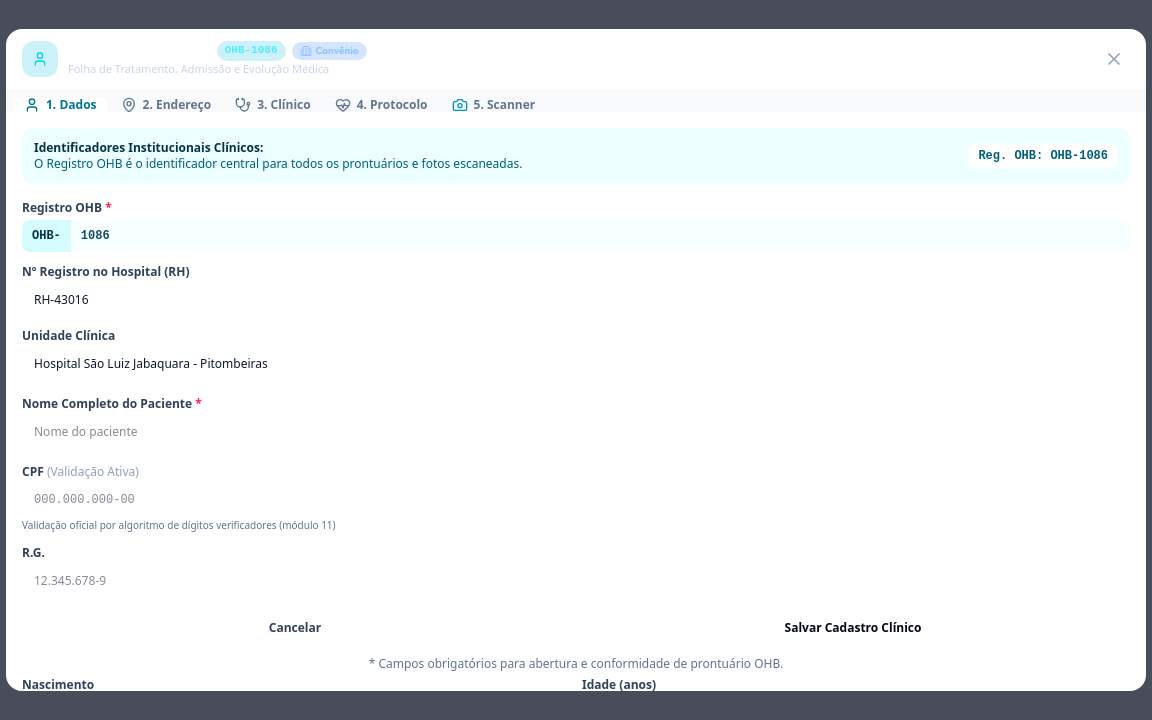
Test: Validação de E-mail nos Cadastros › deve bloquear submissão no formulário de paciente se o e-mail for inválido
Preenche Nome (obrigatório)
Type "Paciente Teste Validação" into the field with placeholder "Nome do paciente" at (576, 432), box [22, 416, 1130, 448]
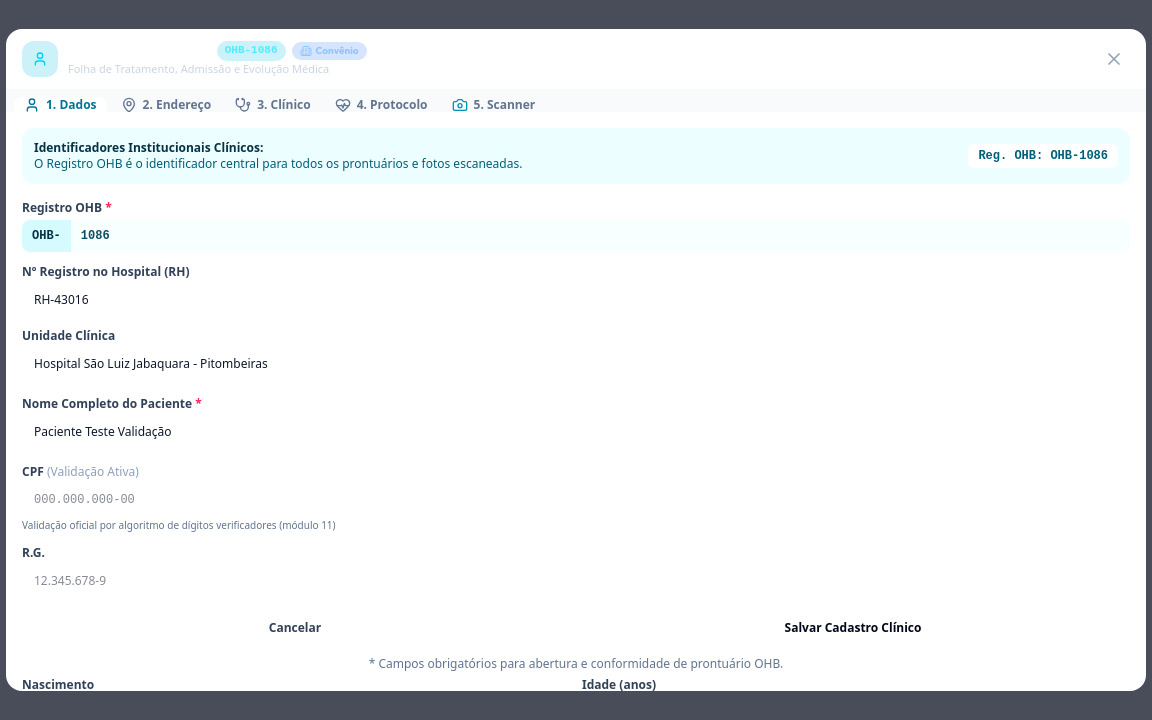
Alterna para a aba 2 (Endereço e Contatos)
Click the button named "Endereço Completo" at (166, 105), box [110, 97, 221, 113]
(page scrolled)
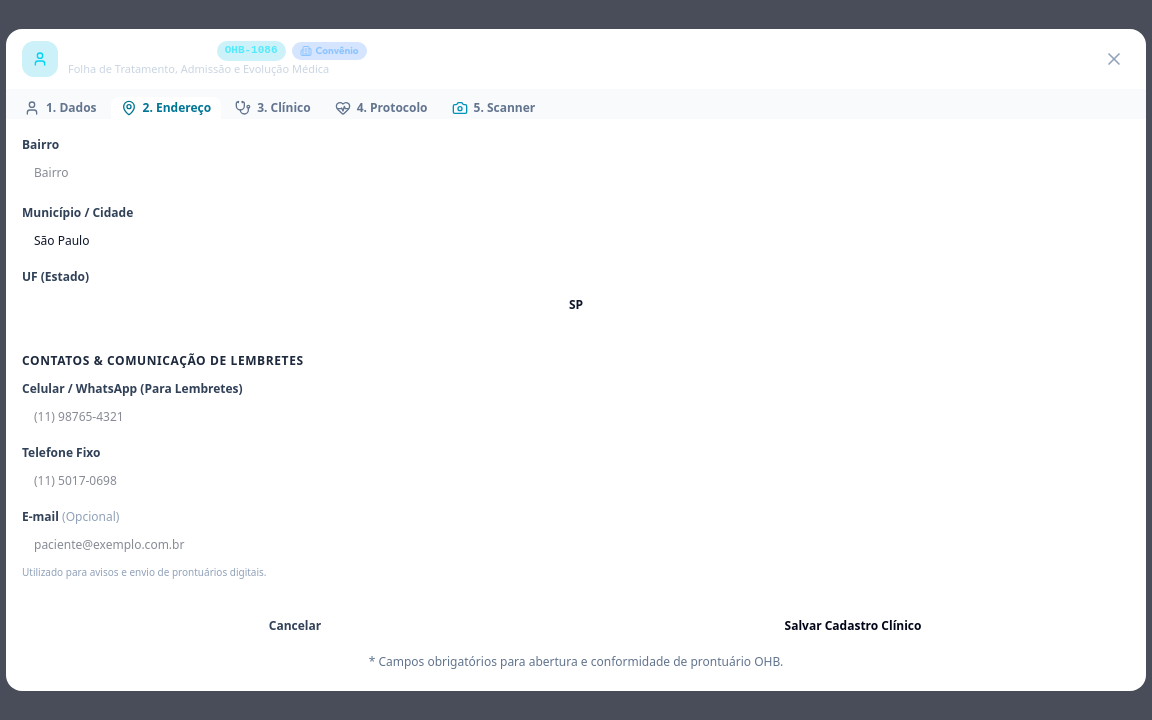
Preenche um e-mail com formato inválido
Type "email_invalido_sem_arroba" into the field with placeholder "paciente@exemplo.com.br" at (576, 546), box [22, 530, 1130, 562]
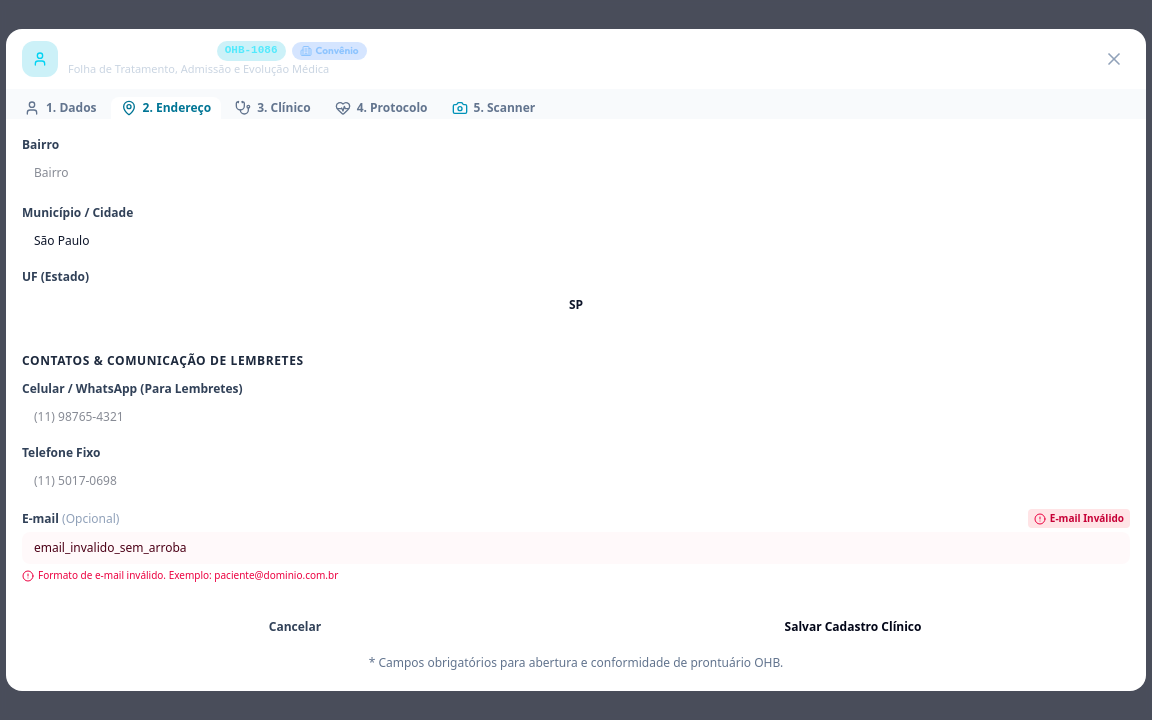
Result: the text "E-mail Inválido" is shown at [1028, 509, 1130, 528]
Tenta submeter o formulário
Submit the form named "Salvar Cadastro Clínico"
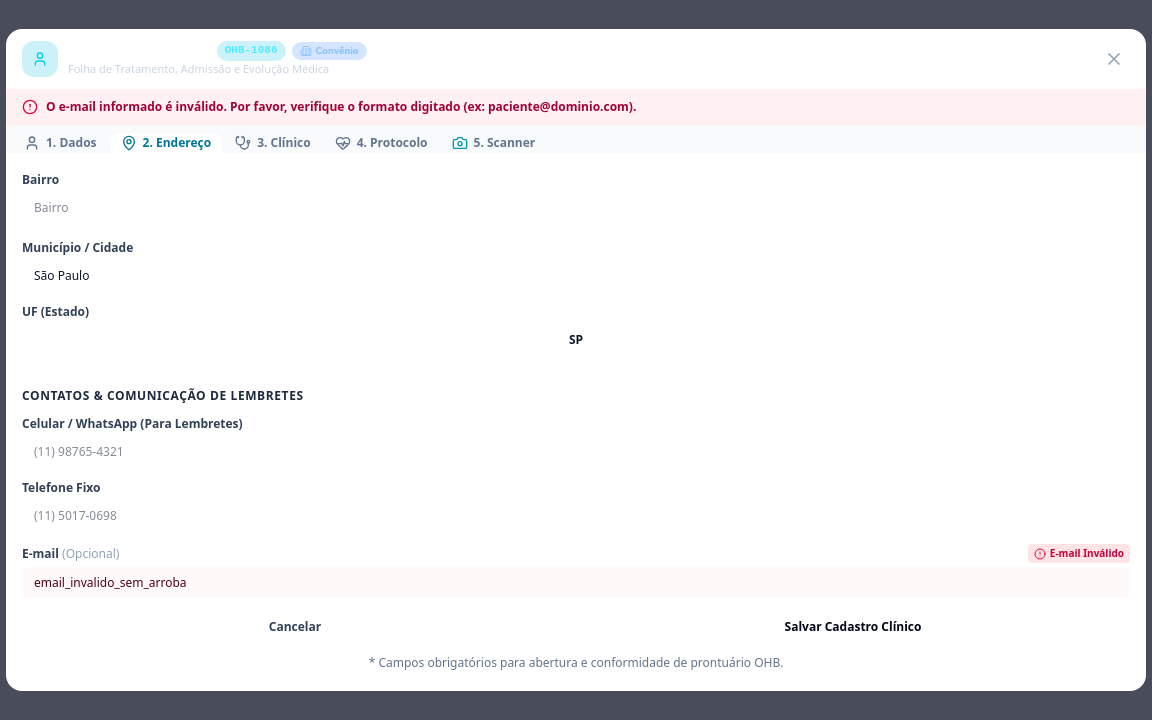
Result: the text "O e-mail informado é inválido" is shown at [46, 98, 636, 115]
